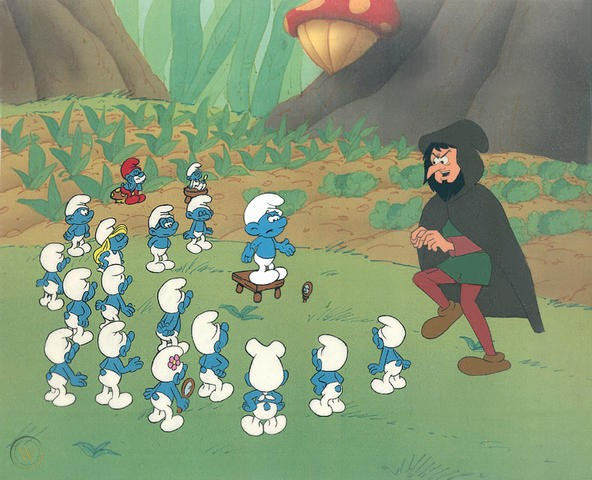smurf: (237, 191, 297, 285), (238, 334, 289, 437), (143, 344, 194, 432), (189, 308, 236, 403), (364, 311, 413, 396), (41, 326, 89, 407), (308, 332, 349, 418), (94, 260, 135, 334), (153, 278, 193, 353), (60, 267, 96, 348), (143, 203, 179, 275), (34, 241, 68, 312), (60, 192, 96, 259), (89, 214, 132, 268), (181, 195, 217, 255), (117, 156, 150, 206), (184, 162, 210, 191)
